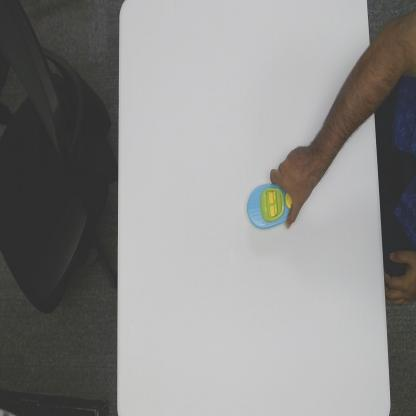Arm: (311, 47, 376, 172)
Boat: (246, 183, 292, 232)
Hand: (269, 141, 317, 230)
